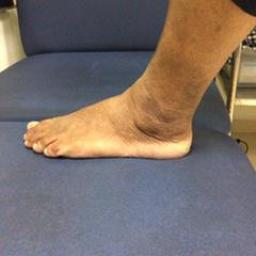Lateral View -Left Foot-: (18, 60, 221, 167)
